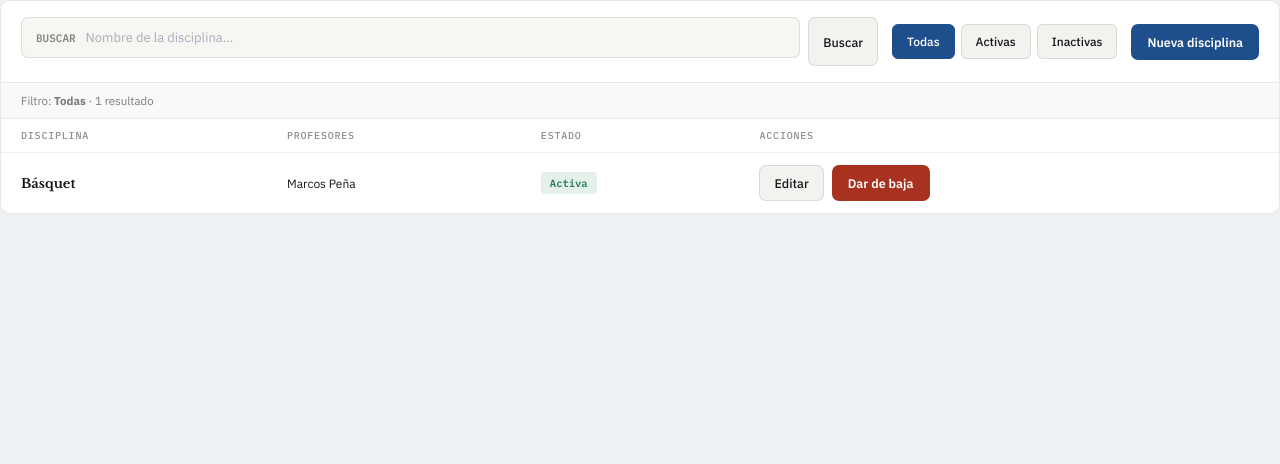
Test case: DisciplinesView create and edit › cancels back to the list without saving
The width and height of the screenshot is (1280, 464).
Click the button with aria-label "Editar Básquet". click: (792,183)
box: left=760, top=165, right=824, bottom=201
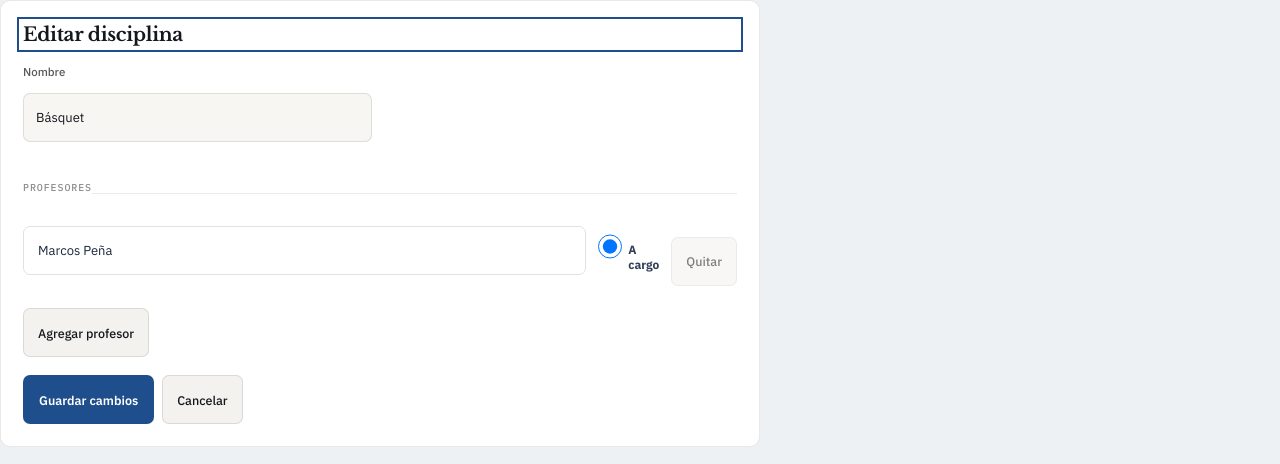
Click the button "Cancelar". click: (202,400)
box: left=162, top=375, right=243, bottom=424
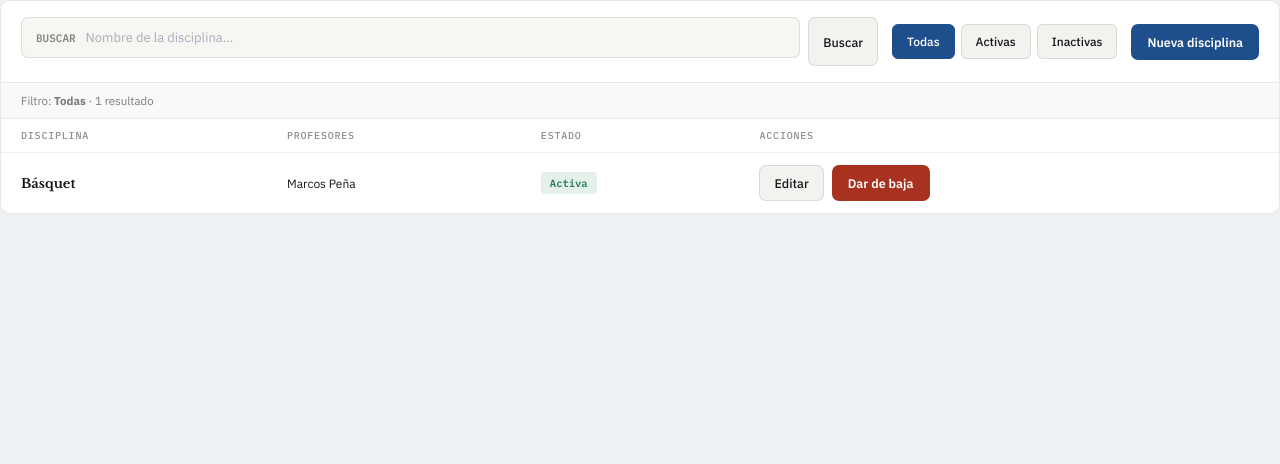
Expected: the table is shown, left=1, top=119, right=1279, bottom=213
